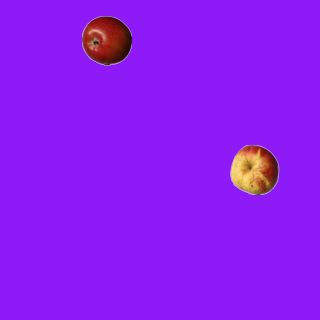Apple Braeburn: (81, 15, 131, 65)
Apple Red Yellow 1: (229, 144, 279, 194)
